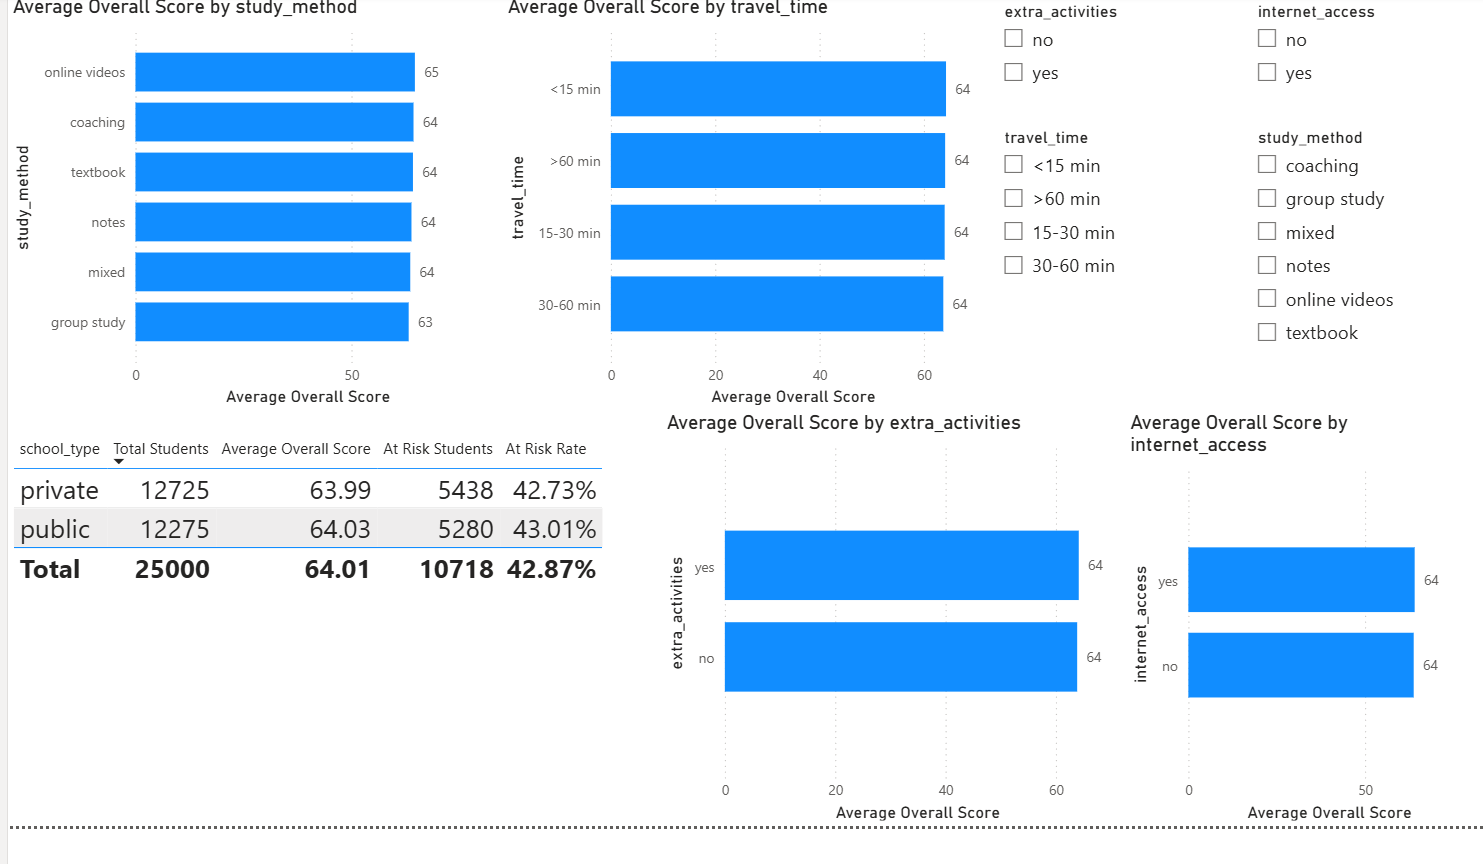

The page's visual inventory and layout, read from the dashboard file:
{"tool":"powerbi","page":{"name":"Resource & Student Support Analysis","canvas":[1280,720],"ordinal":1},"visuals":[{"type":"clusteredBarChart","fields":{"Y":["Student_Performance.Average Overall Score"],"Category":["Student_Performance.internet_access"]},"box":[968.5,360.1,312,360.1],"z":0},{"type":"clusteredBarChart","fields":{"Y":["Student_Performance.Average Overall Score"],"Category":["Student_Performance.travel_time"]},"box":[429,0,422.5,360.1],"z":1},{"type":"clusteredBarChart","fields":{"Y":["Student_Performance.Average Overall Score"],"Category":["Student_Performance.study_method"]},"box":[0,0,422.5,360.1],"z":2},{"type":"clusteredBarChart","fields":{"Y":["Student_Performance.Average Overall Score"],"Category":["Student_Performance.extra_activities"]},"box":[566.8,360.1,401.7,360.1],"z":3},{"type":"tableEx","fields":{"Values":["Student_Performance.school_type","Student_Performance.Total Students","Student_Performance.Average Overall Score","Student_Performance.At Risk Students","Student_Performance.At Risk Rate"]},"box":[0,377,556.4,343.2],"z":4},{"type":"slicer","fields":{"Values":["Student_Performance.internet_access"]},"box":[1071.2,0,209.3,109.2],"z":5},{"type":"slicer","fields":{"Values":["Student_Performance.study_method"]},"box":[1071.2,109.2,209.3,210.6],"z":6},{"type":"slicer","fields":{"Values":["Student_Performance.extra_activities"]},"box":[851.5,0,219.7,109.2],"z":7},{"type":"slicer","fields":{"Values":["Student_Performance.travel_time"]},"box":[851.5,109.2,219.7,228.8],"z":8}]}

Visuals, with their boxes on the page's 1280x720 design canvas (x1, y1, x2, y2). These are canvas units, not pixel positions in the 1483x864 screenshot, which may show the page scaled, cropped or inside an application window:
clusteredBarChart - Student_Performance.Average Overall Score x Student_Performance.internet_access: rect(968, 360, 1280, 720)
clusteredBarChart - Student_Performance.Average Overall Score x Student_Performance.travel_time: rect(429, 0, 852, 360)
clusteredBarChart - Student_Performance.Average Overall Score x Student_Performance.study_method: rect(0, 0, 422, 360)
clusteredBarChart - Student_Performance.Average Overall Score x Student_Performance.extra_activities: rect(567, 360, 968, 720)
tableEx - Student_Performance.school_type x Student_Performance.Total Students: rect(0, 377, 556, 720)
slicer - Student_Performance.internet_access: rect(1071, 0, 1280, 109)
slicer - Student_Performance.study_method: rect(1071, 109, 1280, 320)
slicer - Student_Performance.extra_activities: rect(852, 0, 1071, 109)
slicer - Student_Performance.travel_time: rect(852, 109, 1071, 338)
